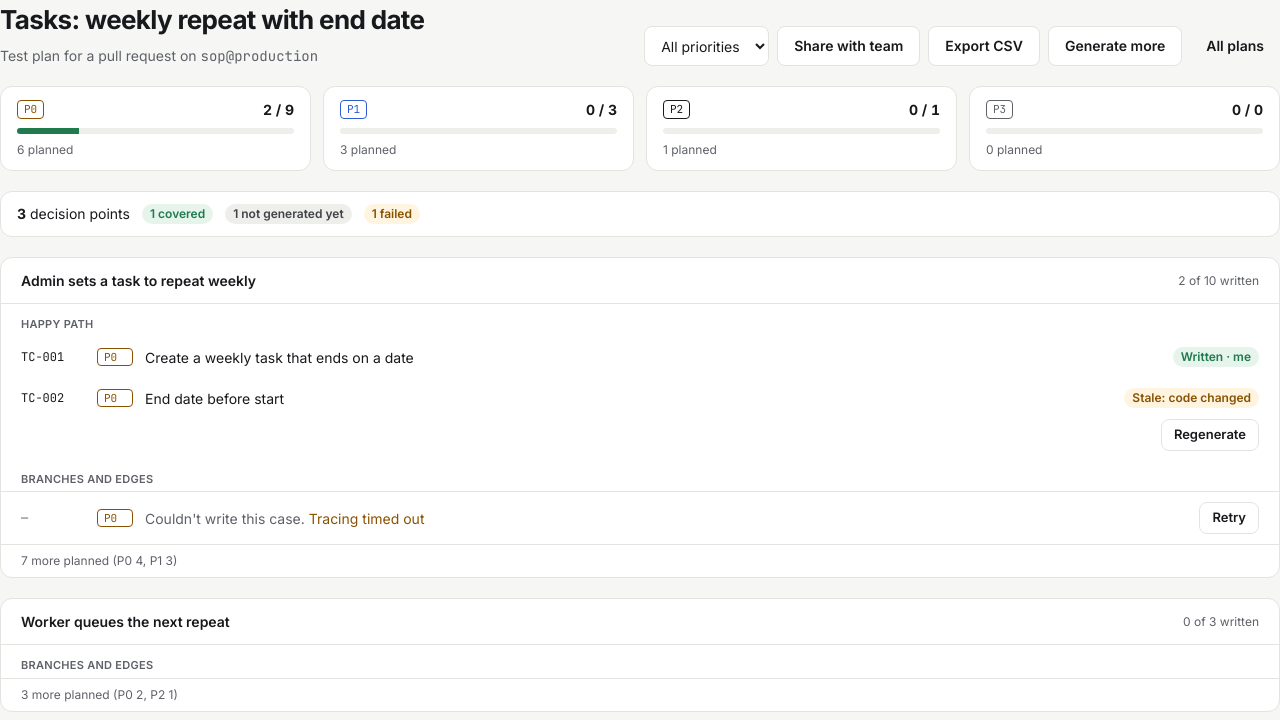
Test: board_groups_and_expands
The image size is (1280, 720).
Expected: the text "Happy path" is shown, x1=21 y1=317 x2=94 y2=331
Click the text "Create a weekly task that ends on a date". click: (279, 357)
box: x1=145 y1=348 x2=414 y2=366
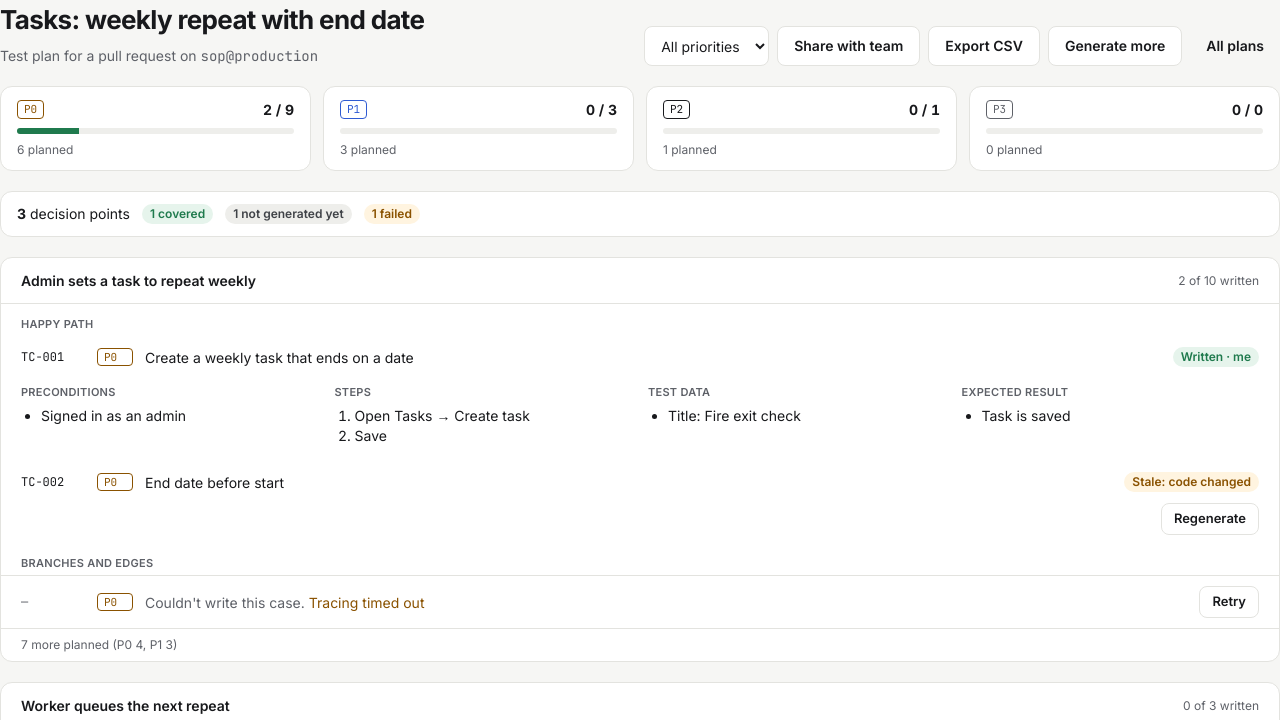
Expected: the text "1 covered" is shown, x1=142 y1=204 x2=213 y2=224
Now the list item "Open Tasks → Create task" is shown, box x1=354 y1=406 x2=530 y2=424
Now the list item "Task is saved" is shown, box x1=982 y1=406 x2=1070 y2=424
